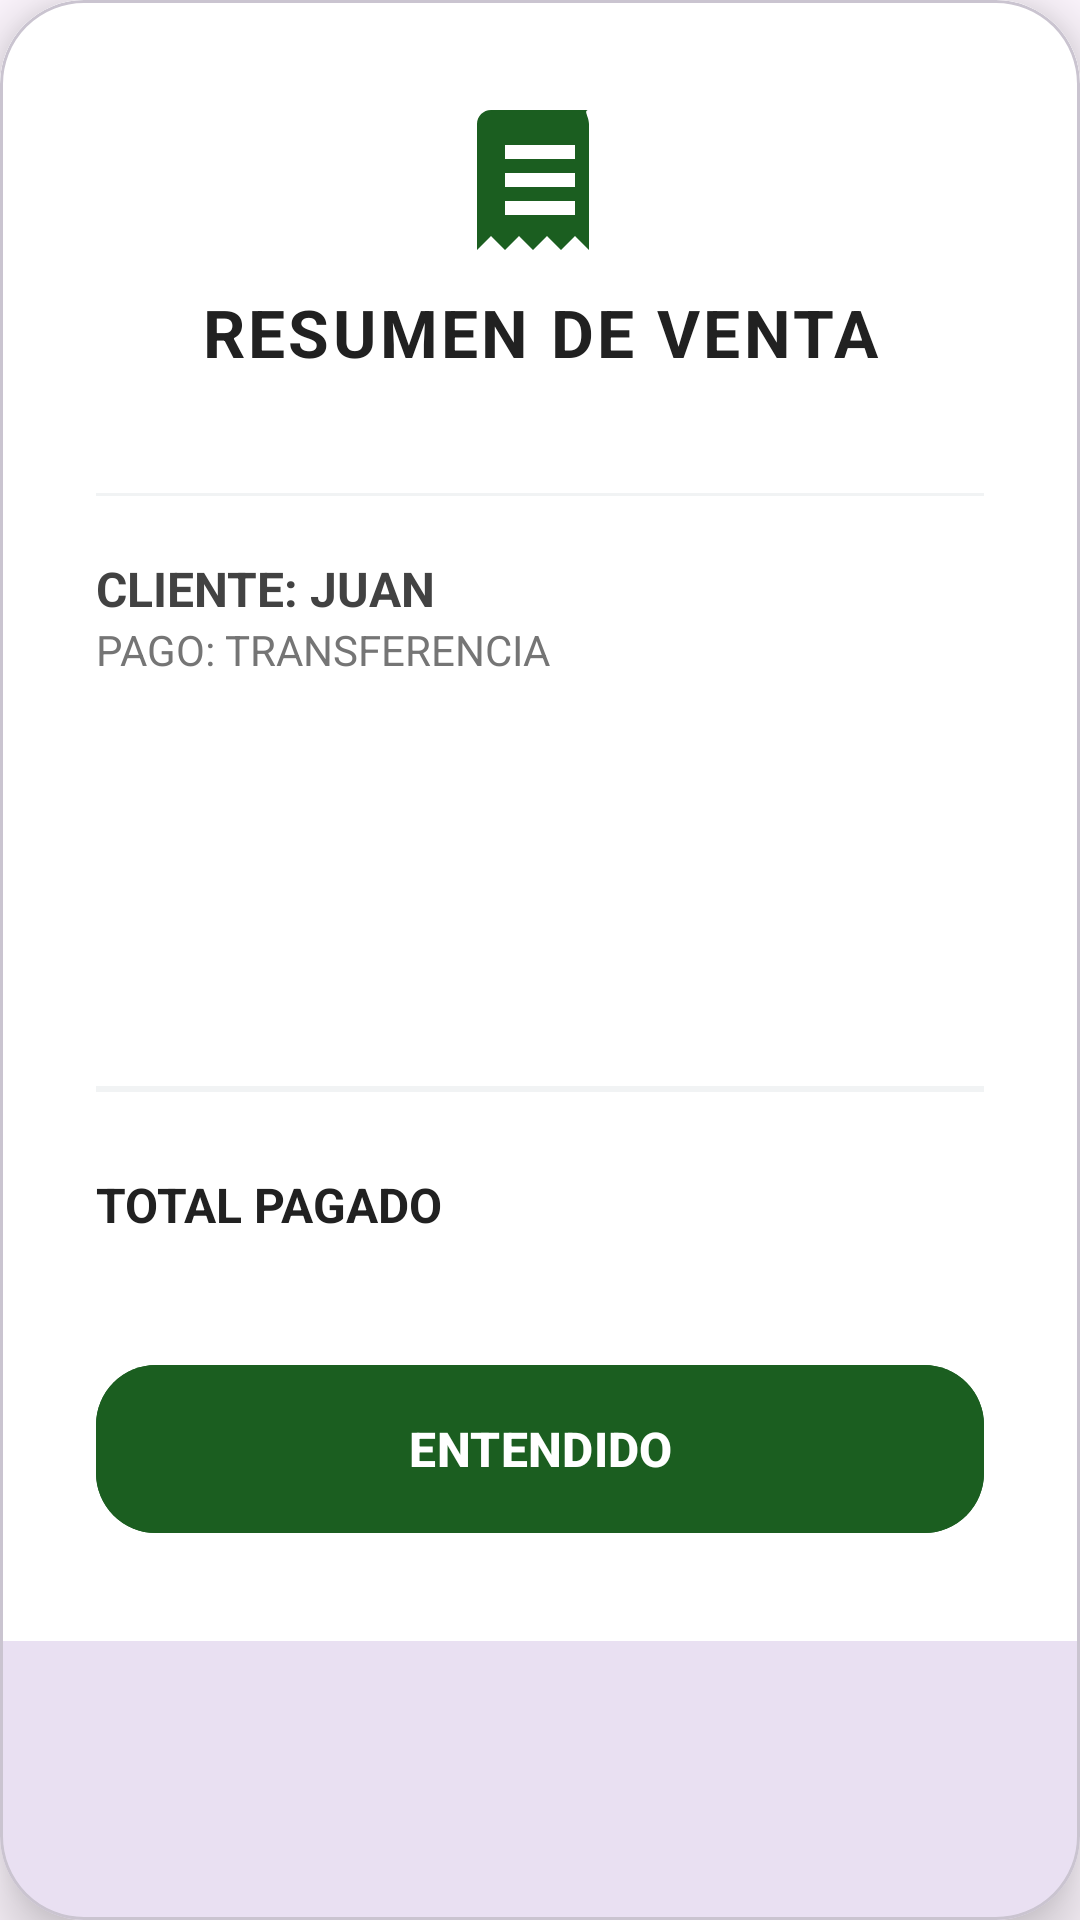

Named icons in this screenshot (1080 x 1920) and their centers, [x,y]:
receipt: [533,180]
